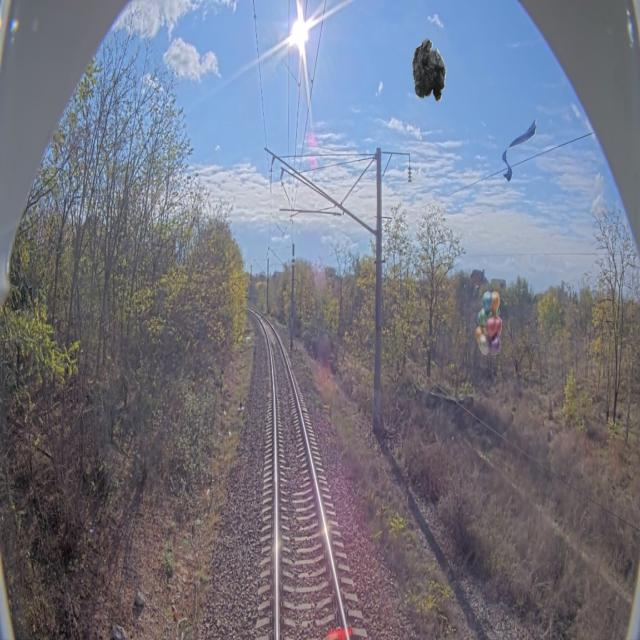balloon: (475, 291, 502, 355)
floating object: (502, 118, 536, 182)
plastic bag: (412, 38, 446, 102)
